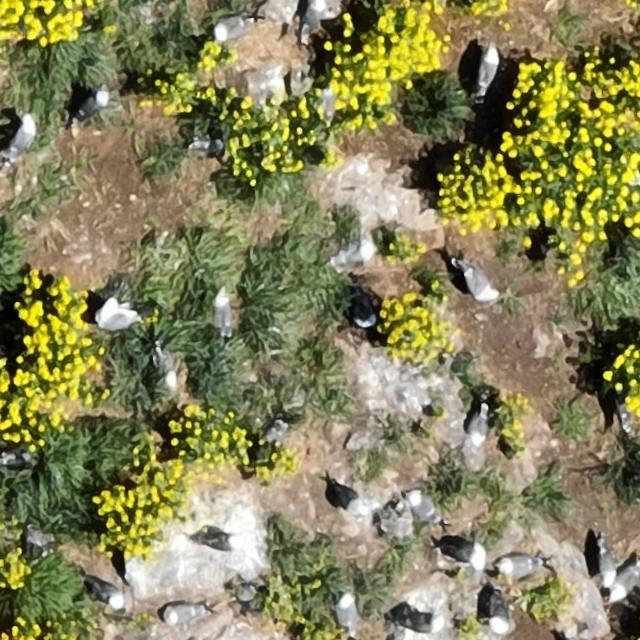umineko: (148, 342, 188, 392), (391, 604, 449, 634), (332, 238, 378, 272), (485, 589, 514, 635), (464, 266, 497, 300), (98, 303, 137, 329), (76, 90, 108, 118), (10, 118, 34, 155), (91, 581, 123, 608), (214, 16, 249, 40), (302, 1, 330, 31), (611, 566, 637, 598), (408, 495, 438, 522), (478, 49, 498, 89), (500, 554, 538, 574), (600, 547, 617, 588), (215, 292, 232, 332), (356, 294, 376, 328), (164, 605, 199, 624), (470, 409, 489, 443), (337, 596, 356, 630), (202, 534, 236, 551), (336, 484, 358, 510), (265, 419, 285, 443), (320, 88, 333, 120), (470, 546, 486, 570)
